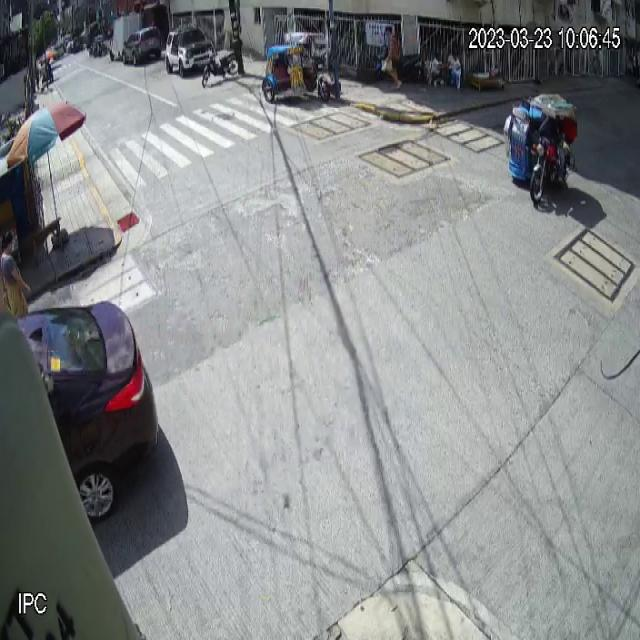Tricycle: (504, 93, 577, 202), (262, 30, 331, 104)
